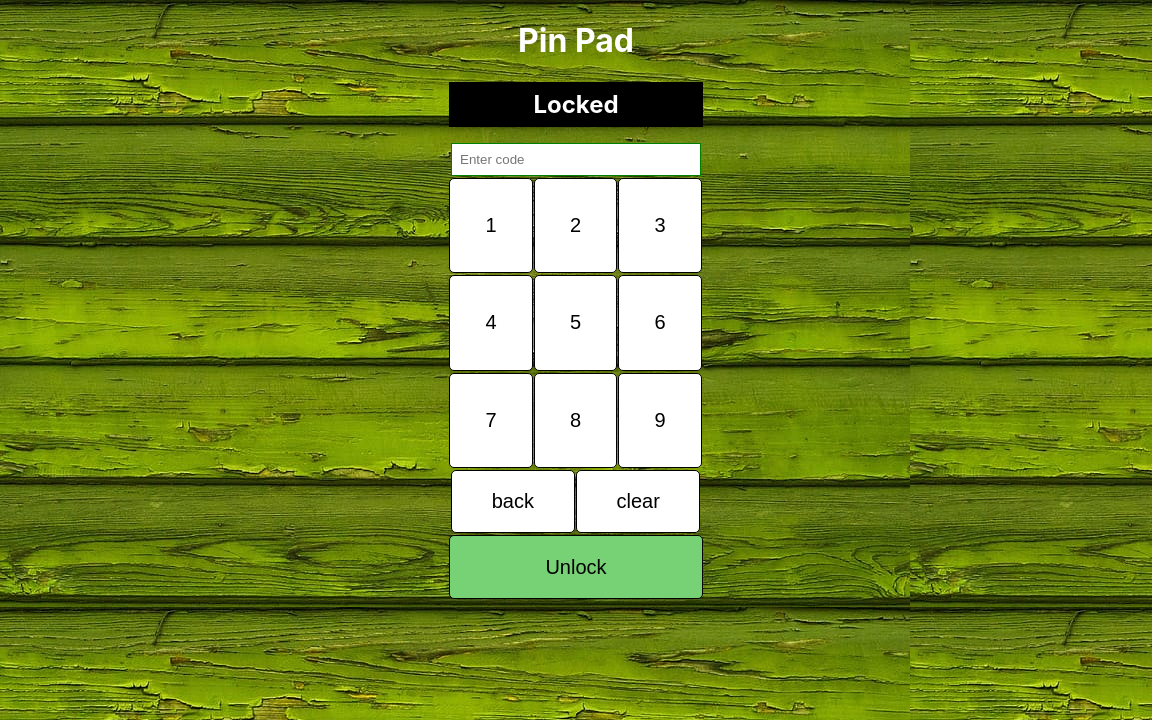
Test: should remove last number when backspace is hit
Click the button "1" at (491, 226), box left=449, top=178, right=533, bottom=273
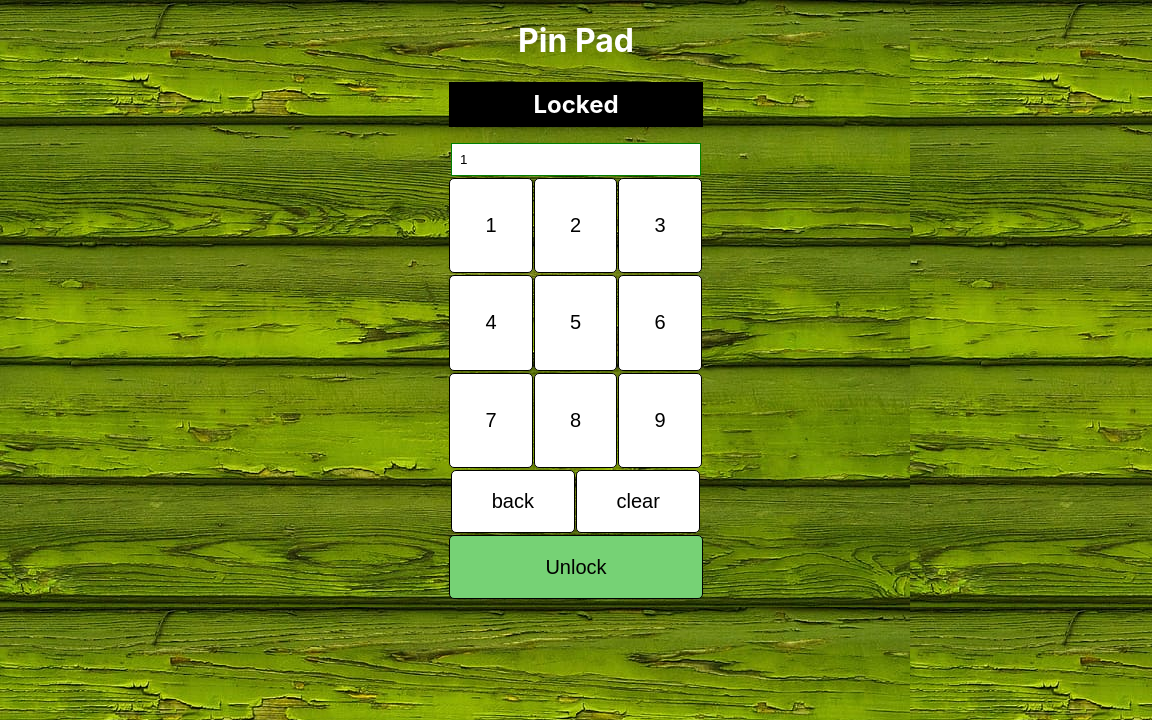
Click the button "9" at (660, 420), box left=618, top=373, right=702, bottom=468
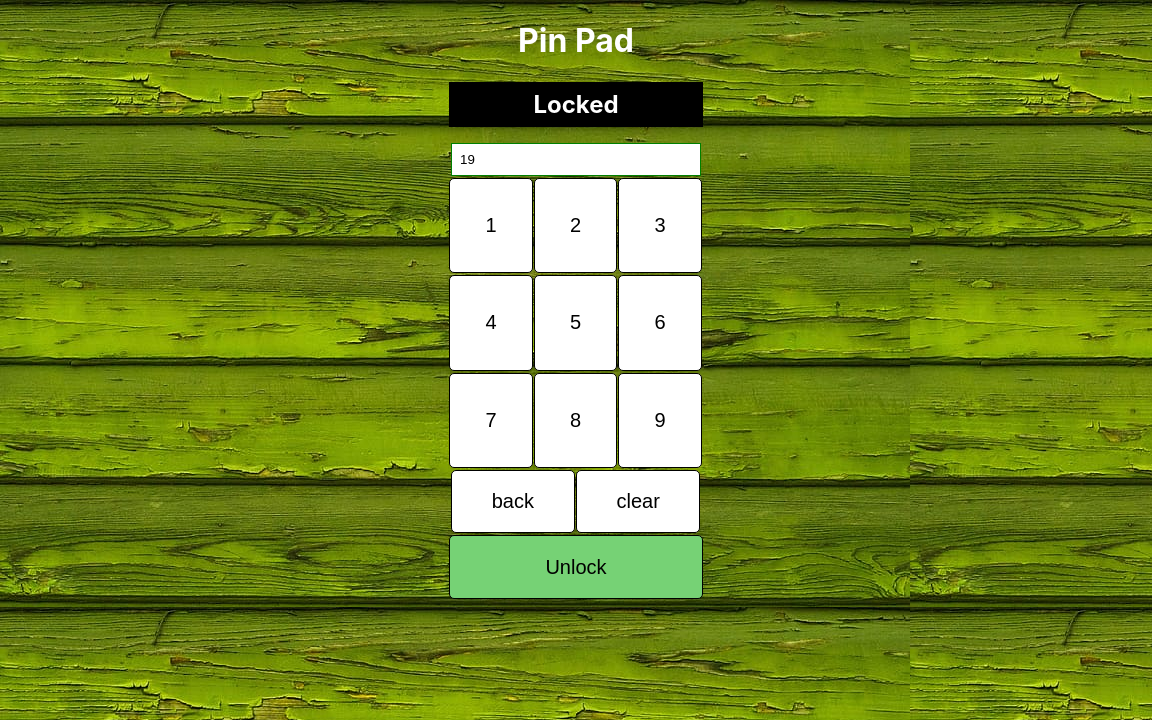
Click the button "9" at (660, 420), box left=618, top=373, right=702, bottom=468
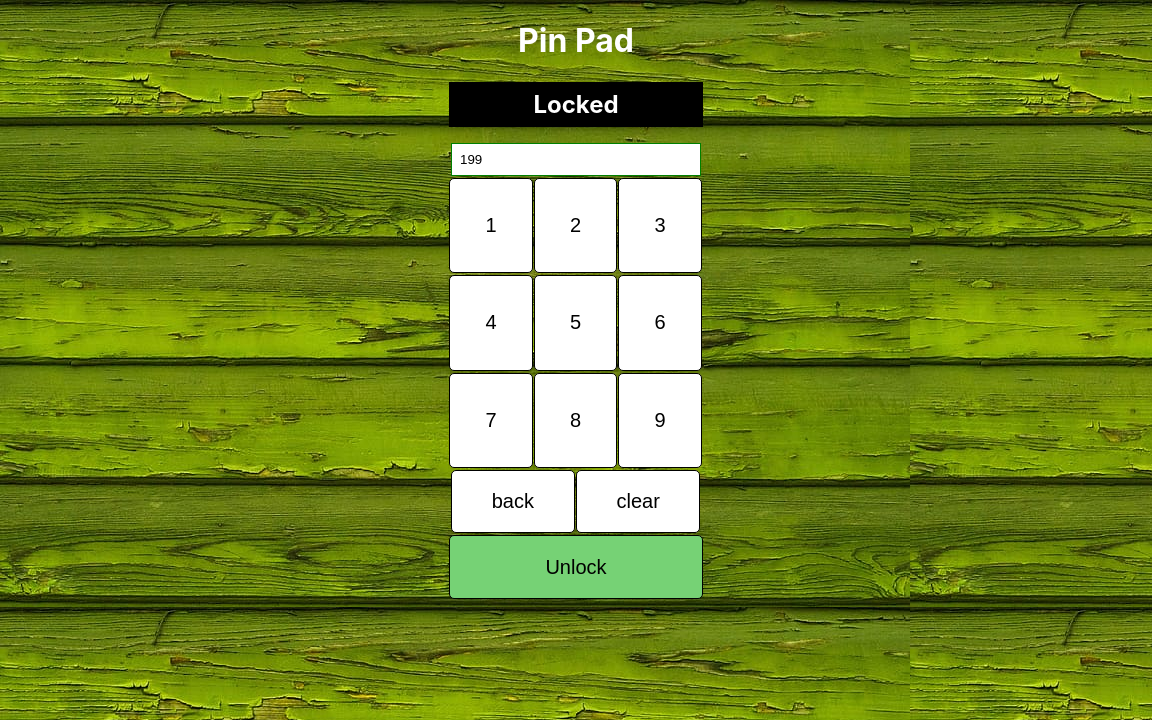
Click the button "6" at (660, 323), box left=618, top=275, right=702, bottom=371
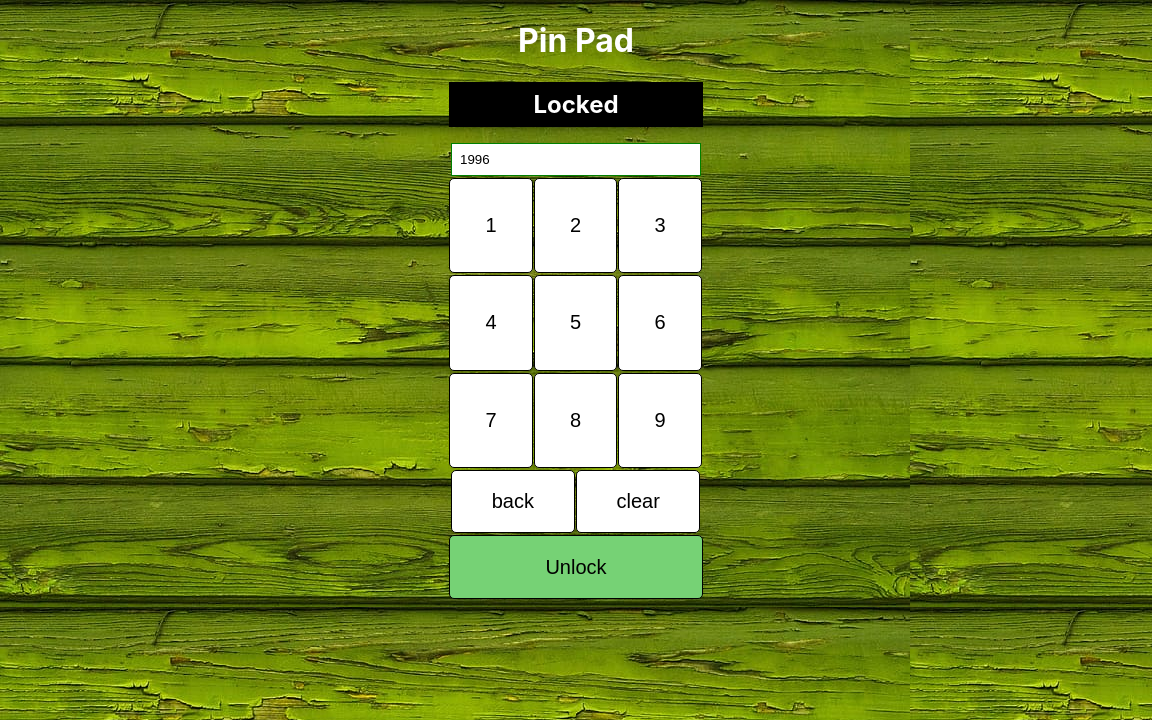
Check: the field named "input-code" holds "1996", box left=451, top=143, right=701, bottom=176
Click the button "back" at (513, 502), box left=450, top=470, right=575, bottom=533
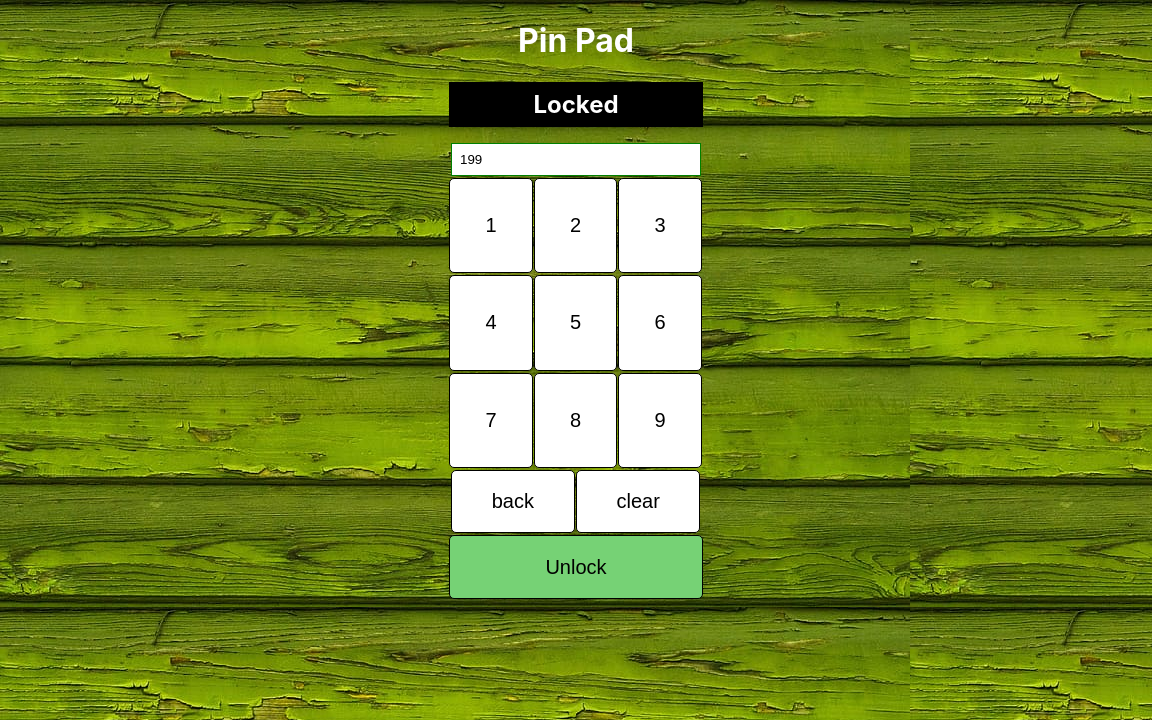
Check: the field named "input-code" holds "199", box left=451, top=143, right=701, bottom=176
